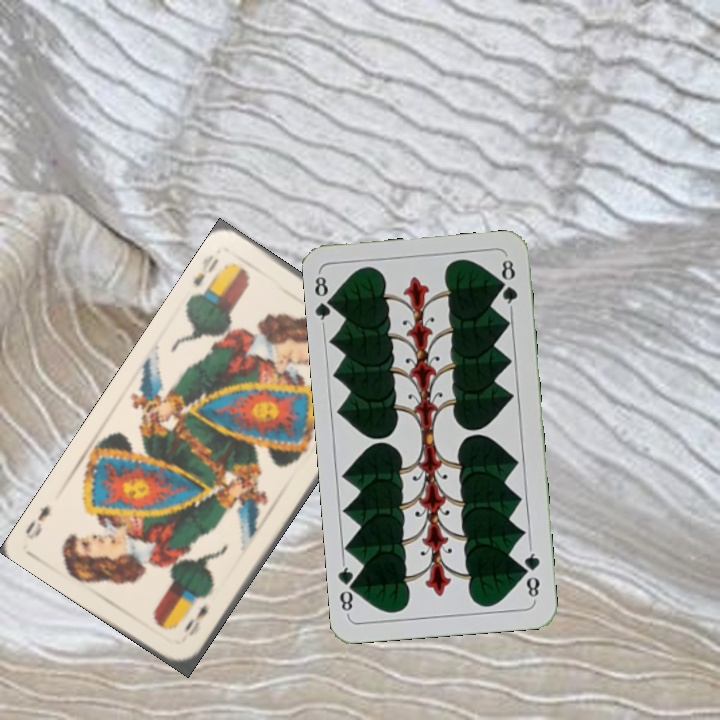EO: (189, 250, 222, 290), (179, 601, 211, 639)
G8: (310, 270, 339, 329), (519, 544, 543, 603)
